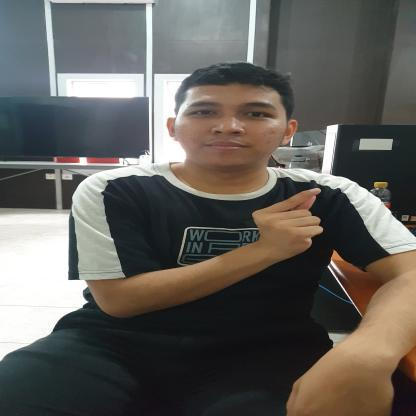R: (235, 186, 340, 262)
